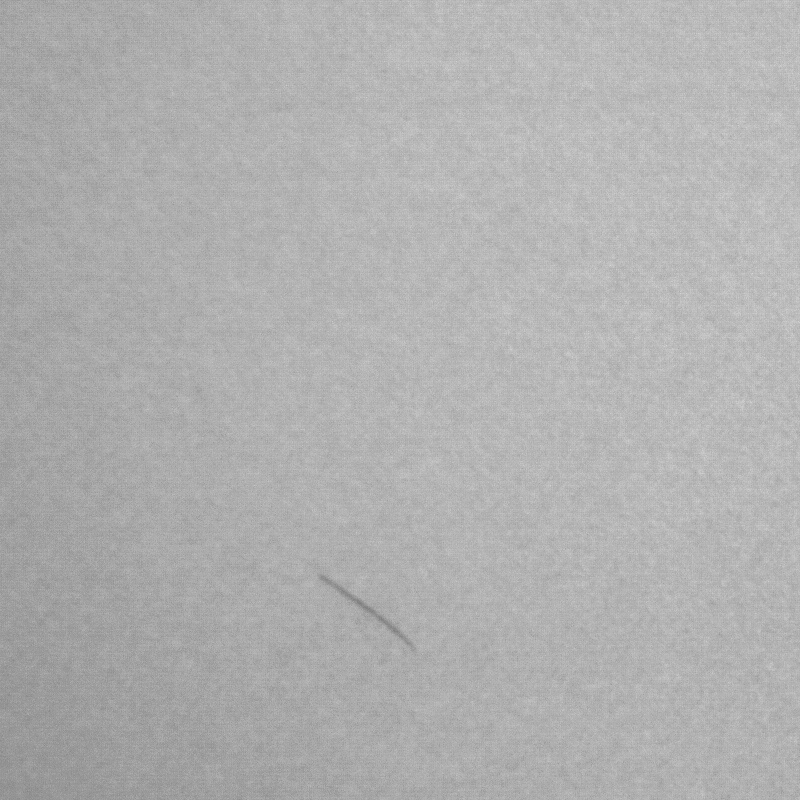defect: (326, 580, 418, 651)
